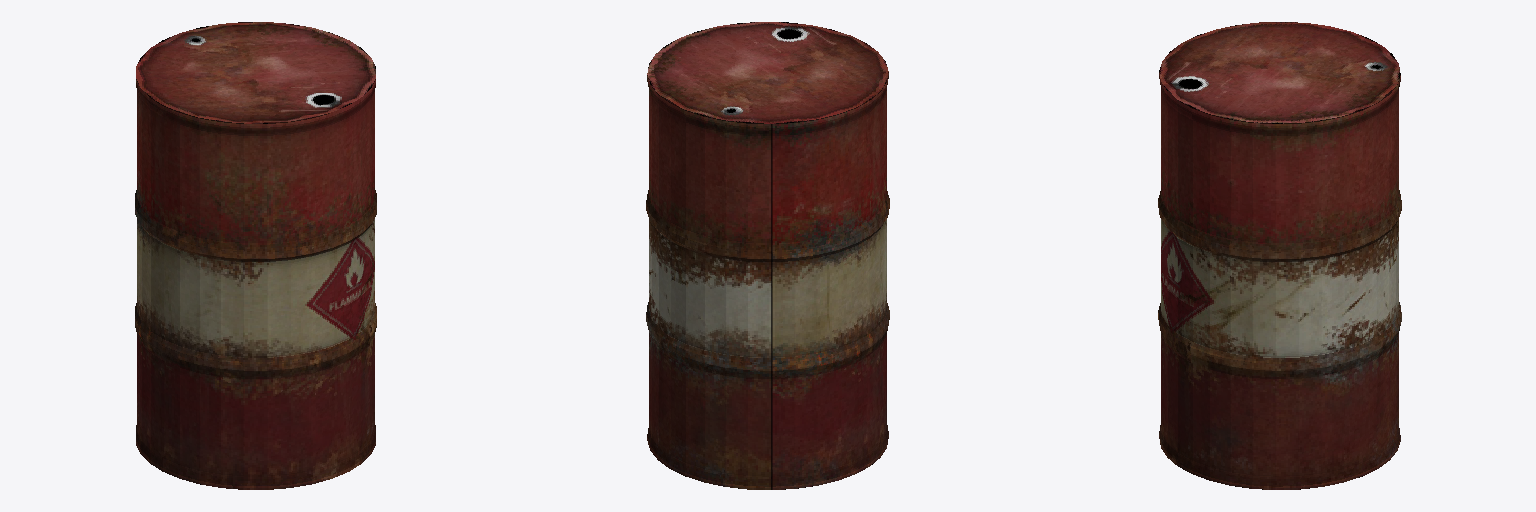
The picture shows the model from 3 angles: view 1: azimuth 30°, elevation 25°; view 2: azimuth 150°, elevation 25°; view 3: azimuth 270°, elevation 25°; orthographic projection.
Parts seen in each view (by area): view 1: Oildrum-ref; view 2: Oildrum-ref; view 3: Oildrum-ref.
Part boxes in pixels (bbox=[...]): Oildrum-ref: bbox=[135, 22, 376, 489]; Oildrum-ref: bbox=[646, 22, 889, 489]; Oildrum-ref: bbox=[1158, 22, 1401, 489].
Size of the model in its own units: 0.6966 by 1.16 by 0.6966.
Materials: 1 (1 with a texture image).